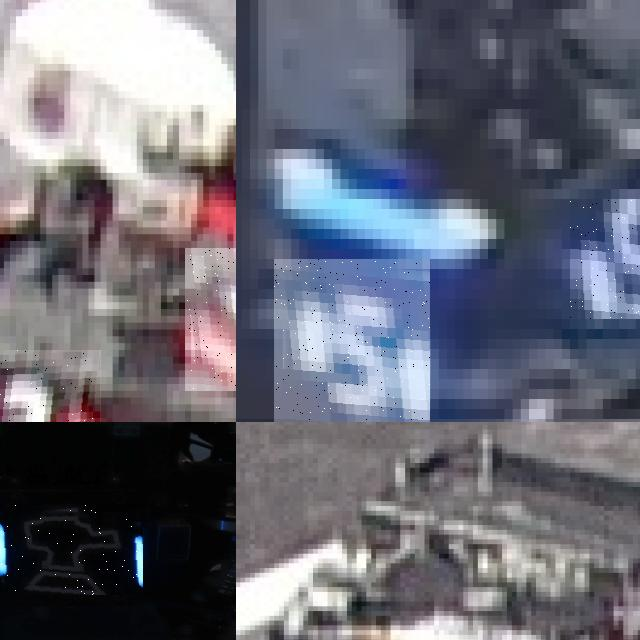B5: (274, 259, 430, 422), (569, 199, 640, 319)
Bs: (0, 504, 142, 594)
R3: (0, 349, 100, 422), (185, 248, 236, 391)
